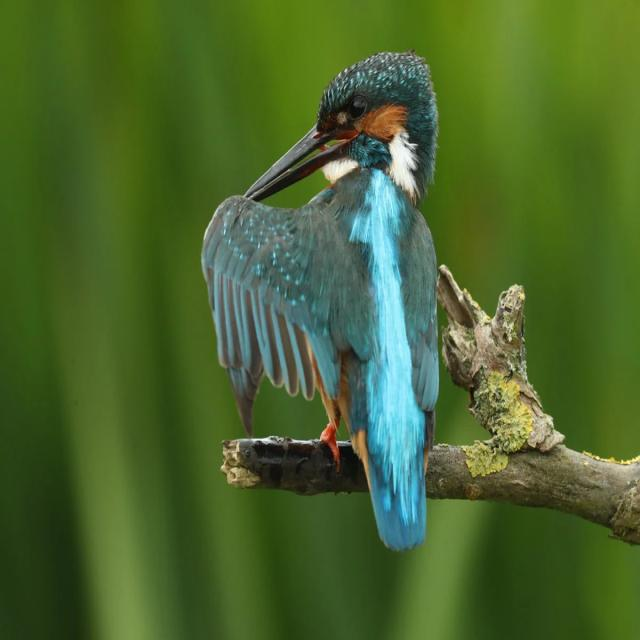kingfisher: (181, 29, 512, 566)
